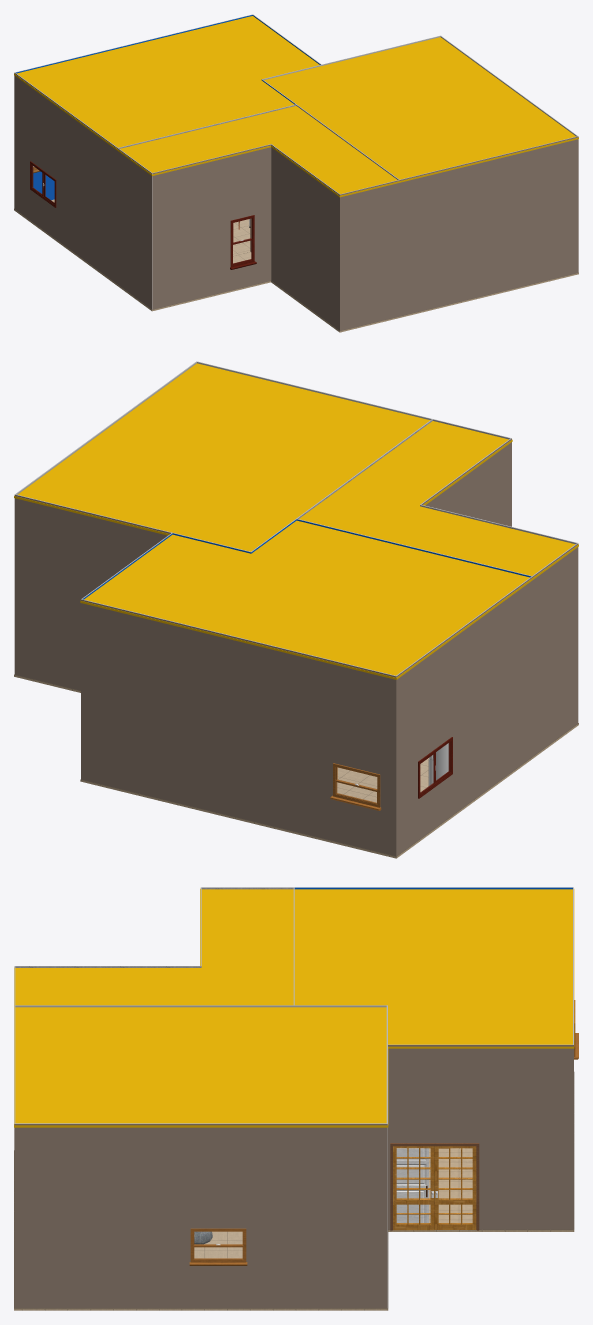
The model's file is ProcTHOR-Train-195.glb.
3 views of the same model, one above another, from view 1: azimuth 30°, elevation 25°; view 2: azimuth 150°, elevation 25°; view 3: azimuth 270°, elevation 25° (orthographic). The views are drawn at different scales.
Parts seen in each view (by area): view 1: WallInside#wall|exterior|0.00|12.24|6.12|12.24, Ceiling#room|2|c, Ceiling#room|6|c, WallInside#wall|exterior|8.16|8.16|12.24|8.16, WallInside#wall|exterior|12.24|0.00|12.24|6.12, Ceiling#room|7|c, WallInside#wall|exterior|8.16|8.16|8.16|12.24, WallInside#wall|exterior|6.12|12.24|8.16|12.24, WallInside#wall|exterior|12.24|6.12|12.24|8.16, WallInside#wall|6|4.08|0.00|12.24|0.00, Floor#room|6|f, Floor#room|7|f (+3 smaller); view 2: WallInside#wall|exterior|4.08|0.00|12.24|0.00, Ceiling#room|2|c, Ceiling#room|6|c, WallInside#wall|exterior|12.24|0.00|12.24|6.12, Ceiling#room|7|c, WallInside#wall|exterior|0.00|4.08|4.08|4.08, WallInside#wall|exterior|12.24|6.12|12.24|8.16, WallInside#wall|exterior|8.16|8.16|8.16|12.24, Floor#room|6|f, Window_Hung_48x32, Window_Slider_60x36; view 3: WallInside#wall|exterior|0.00|4.08|0.00|12.24, Ceiling#room|2|c, Ceiling#room|6|c, WallInside#wall|exterior|4.08|0.00|4.08|4.08, Ceiling#room|7|c, Floor#room|6|f, Floor#room|2|f, Doorway_Door_8b, Doorway_Door_5a, Doorway_Door_5b, Window_Hung_48x32, Doorway_Double_5 (+2 smaller).
Boxes of the visible parts, box(x1,y1,x2,y2) form: WallInside#wall|exterior|0.00|12.24|6.12|12.24: box(399, 136, 578, 316); Ceiling#room|2|c: box(264, 37, 578, 182); Ceiling#room|6|c: box(14, 16, 321, 149); WallInside#wall|exterior|8.16|8.16|12.24|8.16: box(152, 144, 271, 309); WallInside#wall|exterior|12.24|0.00|12.24|6.12: box(14, 72, 117, 283); Ceiling#room|7|c: box(117, 106, 399, 197); WallInside#wall|exterior|8.16|8.16|8.16|12.24: box(271, 144, 339, 330); WallInside#wall|exterior|6.12|12.24|8.16|12.24: box(340, 180, 399, 330); WallInside#wall|exterior|12.24|6.12|12.24|8.16: box(117, 148, 152, 309); WallInside#wall|6|4.08|0.00|12.24|0.00: box(15, 14, 252, 200); Floor#room|6|f: box(14, 199, 250, 285); Floor#room|7|f: box(117, 252, 399, 332); WallInside#wall|exterior|4.08|0.00|12.24|0.00: box(81, 599, 396, 856); Ceiling#room|2|c: box(14, 363, 429, 553); Ceiling#room|6|c: box(80, 520, 533, 679); WallInside#wall|exterior|12.24|0.00|12.24|6.12: box(396, 576, 532, 855); Ceiling#room|7|c: box(299, 421, 578, 579); WallInside#wall|exterior|0.00|4.08|4.08|4.08: box(14, 494, 171, 690); WallInside#wall|exterior|12.24|6.12|12.24|8.16: box(532, 543, 578, 756); WallInside#wall|exterior|8.16|8.16|8.16|12.24: box(421, 438, 511, 526); Floor#room|6|f: box(80, 756, 533, 858); Window_Hung_48x32: box(330, 763, 381, 810); Window_Slider_60x36: box(418, 737, 452, 798); WallInside#wall|exterior|0.00|4.08|0.00|12.24: box(14, 1123, 387, 1308); Ceiling#room|2|c: box(14, 1007, 388, 1127); Ceiling#room|6|c: box(293, 889, 574, 1048); WallInside#wall|exterior|4.08|0.00|4.08|4.08: box(388, 1045, 573, 1229); Ceiling#room|7|c: box(14, 888, 294, 1006); Floor#room|6|f: box(388, 1072, 574, 1231); Floor#room|2|f: box(14, 1190, 388, 1310); Doorway_Door_8b: box(396, 1148, 428, 1222); Doorway_Door_5a: box(434, 1146, 476, 1229); Doorway_Door_5b: box(393, 1146, 434, 1230); Window_Hung_48x32: box(189, 1228, 247, 1265); Doorway_Double_5: box(390, 1143, 479, 1230).
Size of what is drawn, in the model's own units: 12.4 by 4.52 by 12.38.
227 materials, 98 textured.
